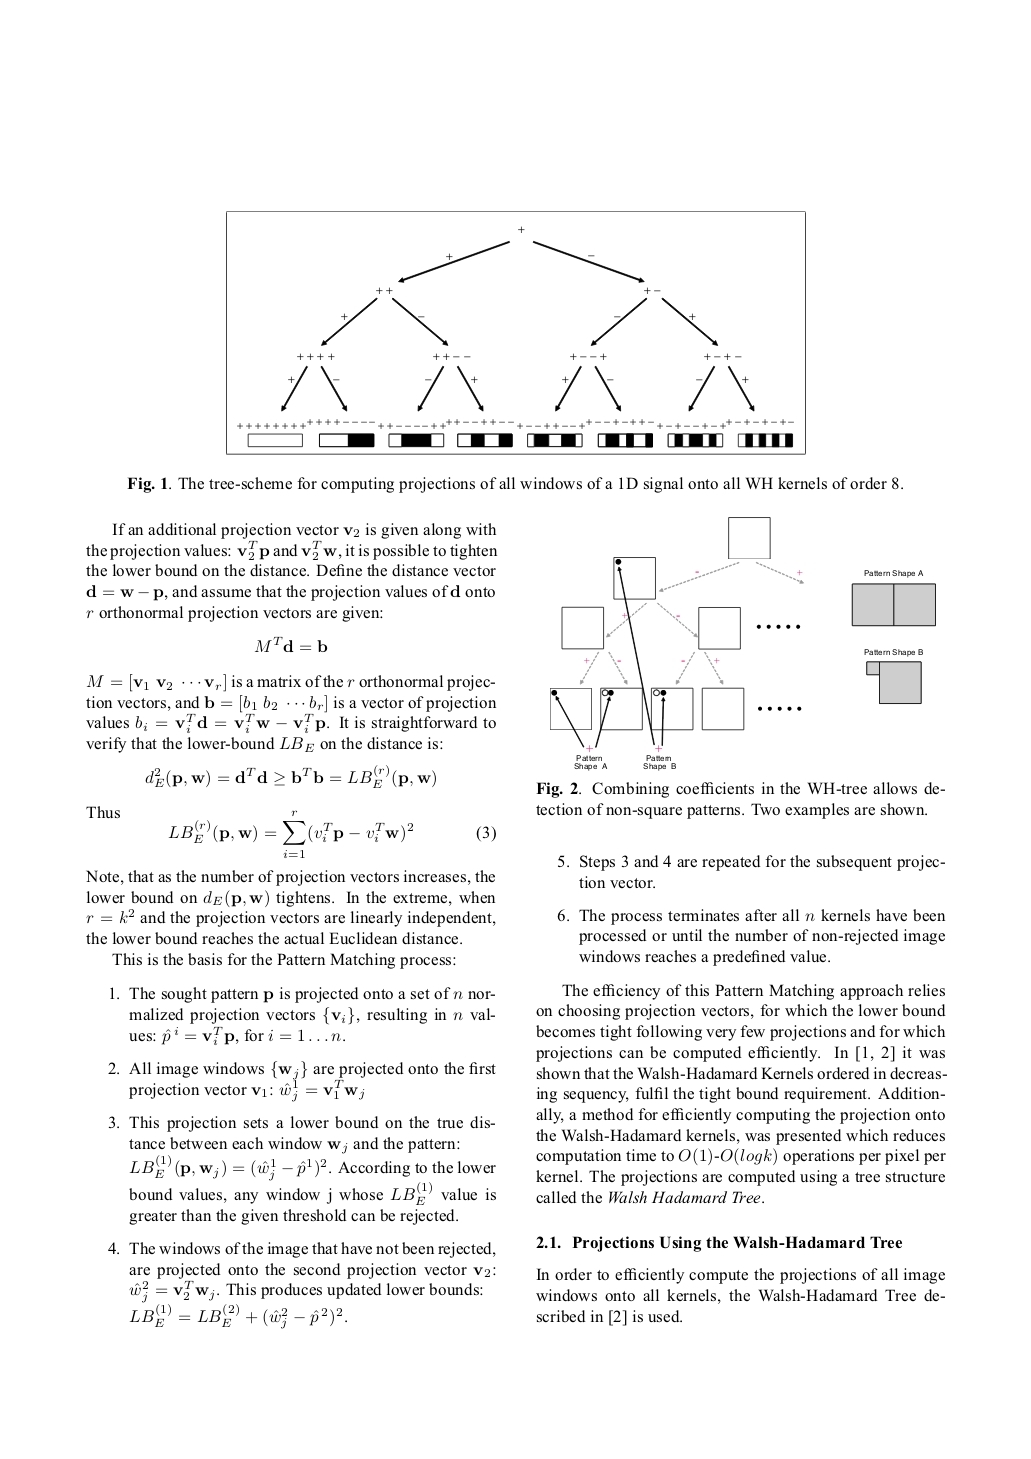figure: (227, 210, 804, 455), (550, 515, 935, 752)
formula: (168, 810, 495, 857), (254, 635, 327, 653)
